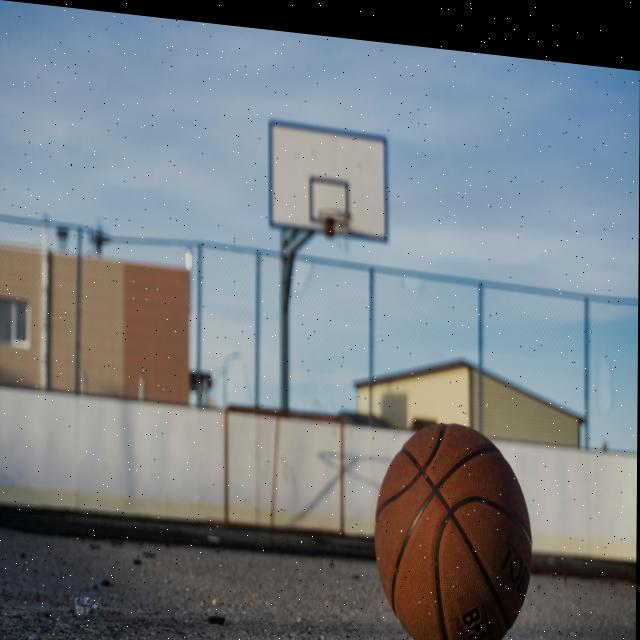Basketball: (372, 418, 532, 640)
